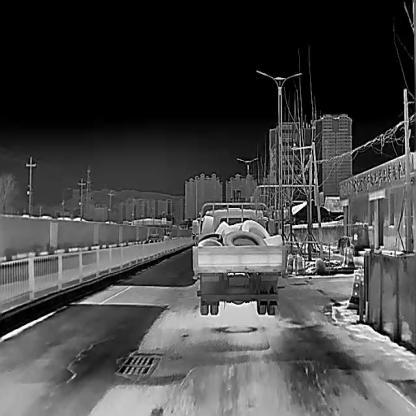car: (191, 201, 283, 315), (147, 234, 161, 248)
